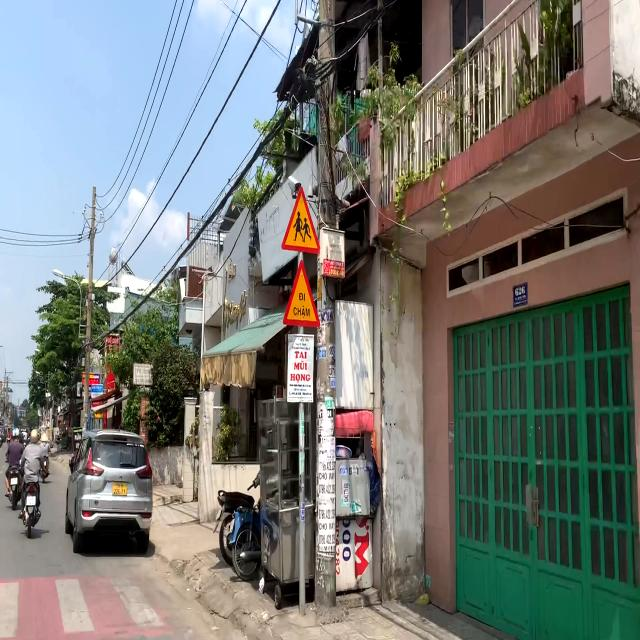W.225: (280, 183, 322, 257)
W.245a: (282, 253, 323, 328)
